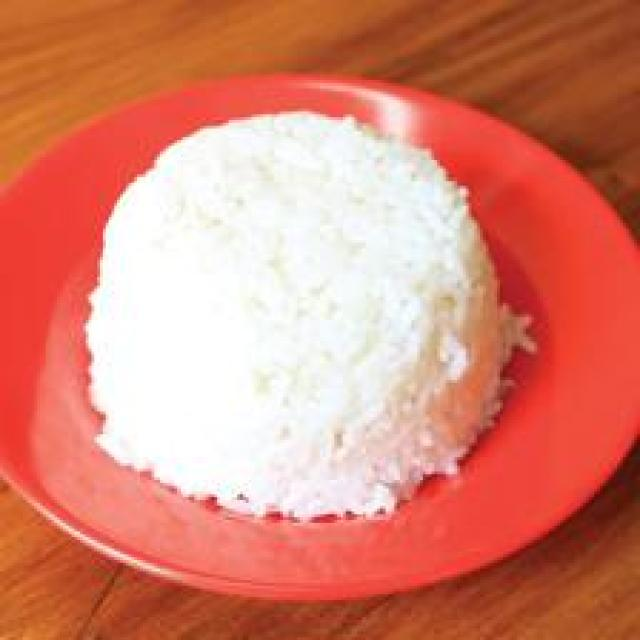Wet Waste: (76, 104, 534, 532)
